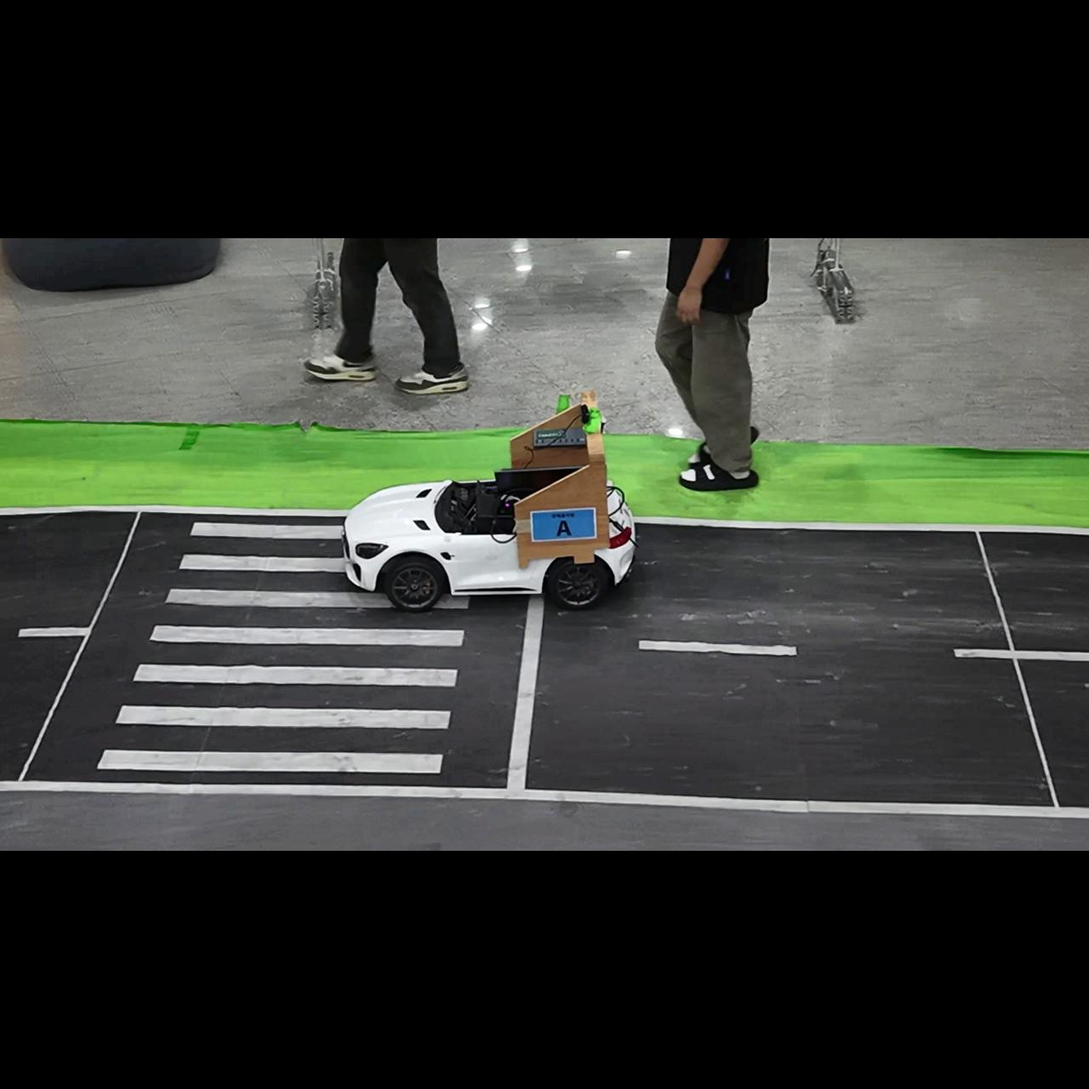broken_line: (639, 640, 797, 656), (953, 649, 1088, 662), (18, 627, 89, 637)
crosswalk: (97, 522, 470, 773)
